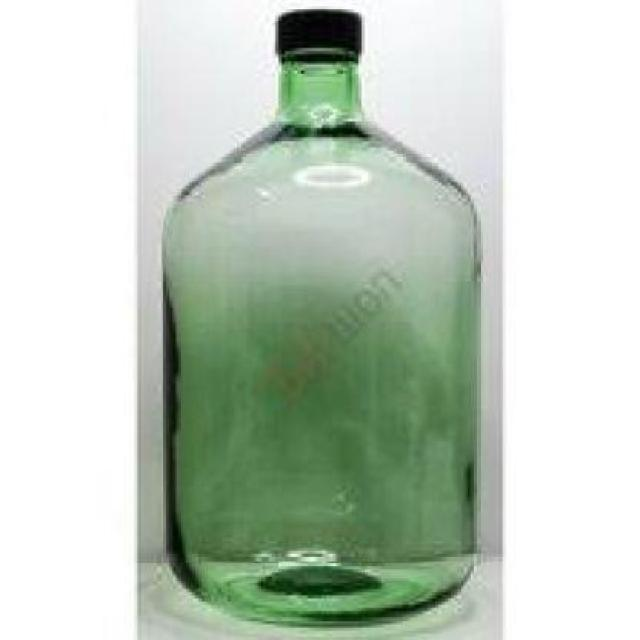GLASS: (160, 45, 477, 624)
PLASTIC: (276, 6, 358, 51)
